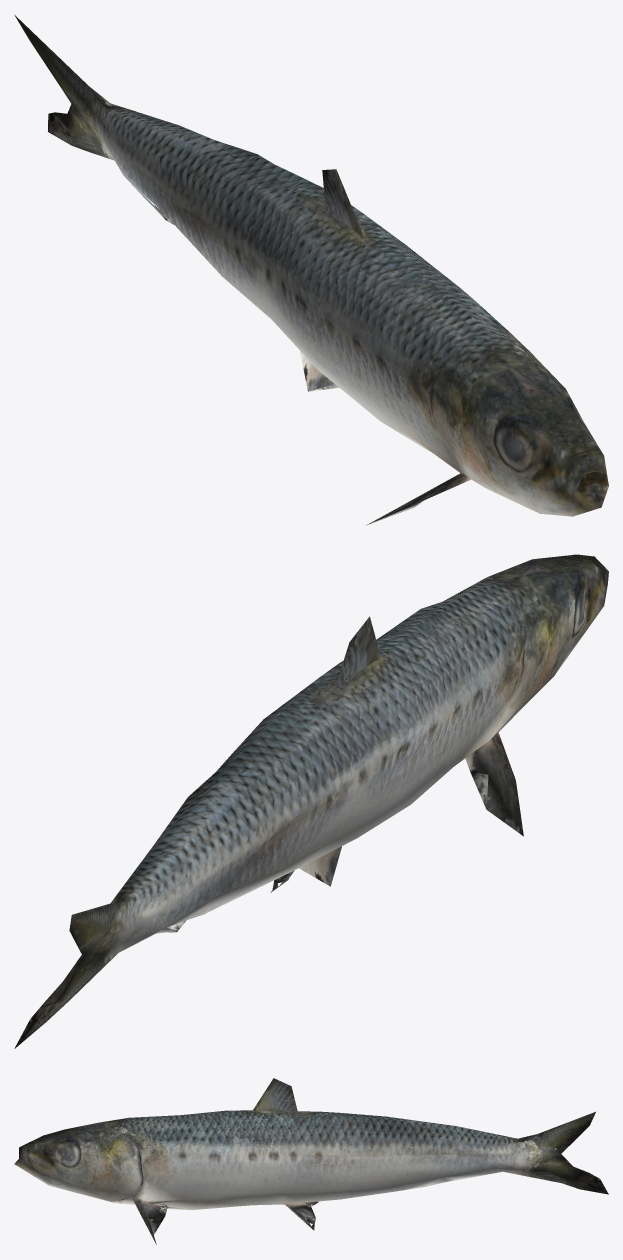
File: sardine.glb
The picture shows the model from 3 angles, top to bottom: view 1: azimuth 30°, elevation 25°; view 2: azimuth 150°, elevation 25°; view 3: azimuth 270°, elevation 25°; orthographic projection. The views are drawn at different scales.
Visible parts, largest first — view 1: sardine; view 2: sardine; view 3: sardine.
Boxes of the visible parts, bbox=[...] form: sardine: bbox=[14, 14, 608, 525]; sardine: bbox=[14, 554, 608, 1048]; sardine: bbox=[14, 1078, 608, 1244].
Size of the model in its own units: 0.0424 by 0.0527 by 0.2.
Materials: 1 (1 with a texture image).
